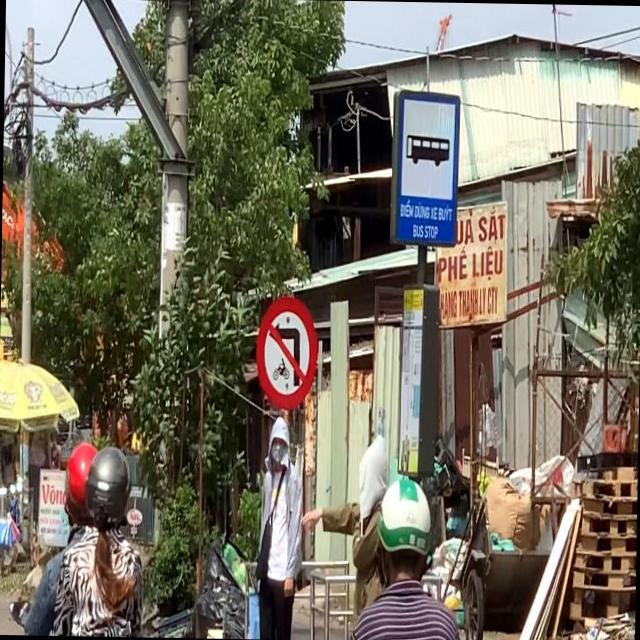I-434a: (396, 96, 457, 246)
P-123a: (253, 292, 320, 410)
